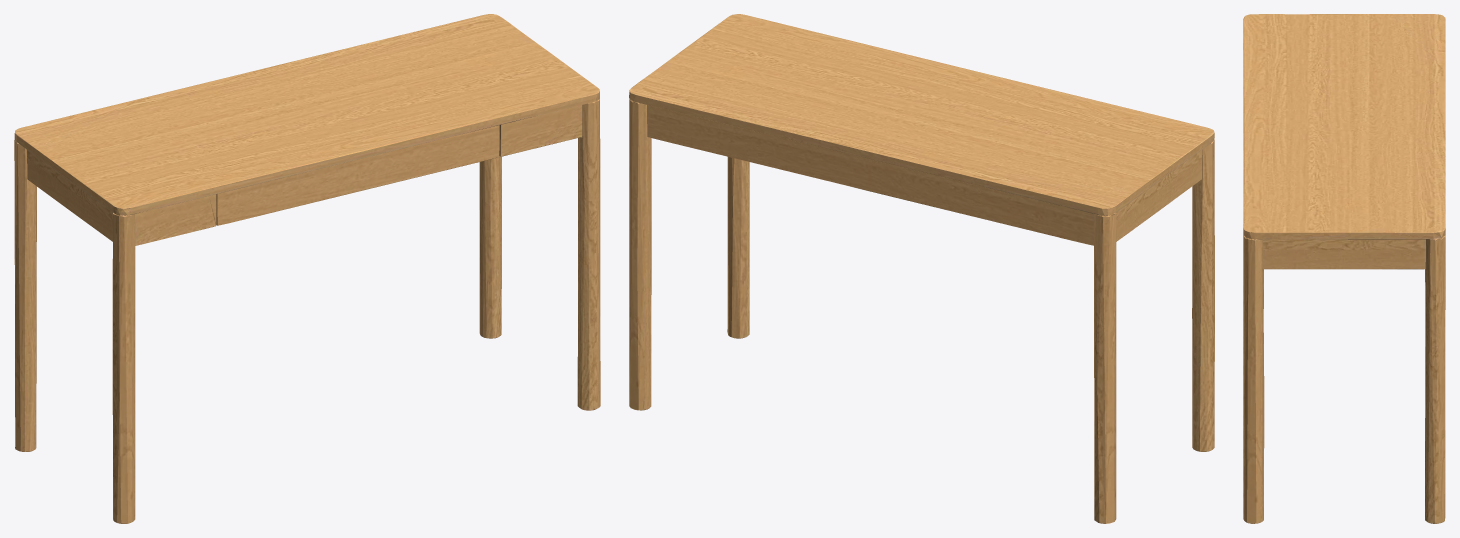
The picture shows the model from 3 angles, left to right: view 1: azimuth 30°, elevation 25°; view 2: azimuth 150°, elevation 25°; view 3: azimuth 270°, elevation 25°; orthographic projection. The views are drawn at different scales.
Visible parts, largest first — view 1: 172bc6b0-46b7-4188-abf6-560e59e0aebb; view 2: 172bc6b0-46b7-4188-abf6-560e59e0aebb; view 3: 172bc6b0-46b7-4188-abf6-560e59e0aebb.
Part boxes in pixels (x1,y1,x2,y2): 172bc6b0-46b7-4188-abf6-560e59e0aebb: [14, 14, 600, 523]; 172bc6b0-46b7-4188-abf6-560e59e0aebb: [629, 14, 1214, 523]; 172bc6b0-46b7-4188-abf6-560e59e0aebb: [1243, 14, 1445, 523].
Bounding box in the file's own units: 1.2 × 0.7499 × 0.47.
1 material, 1 textured.
